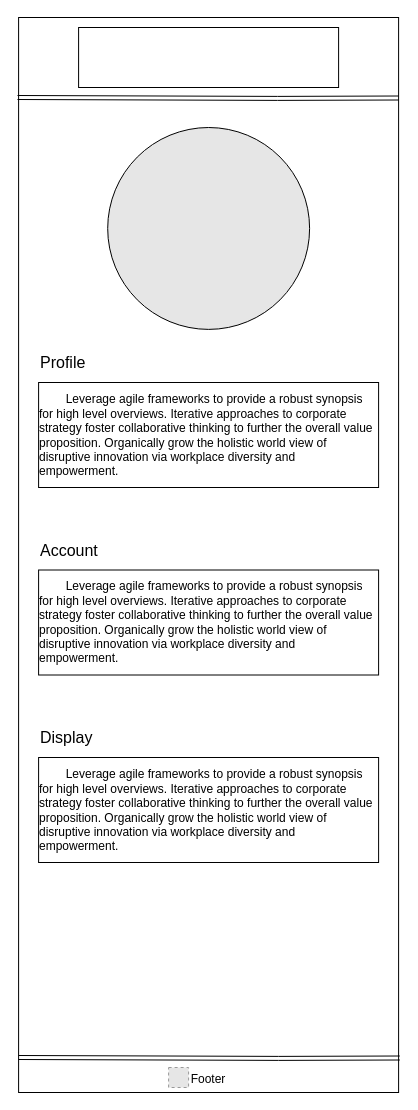
Image size: 418x1110. Some labels were removed from this diagram. Grey dashed boxes stand in for pictures. Each missing label, with the centre of its shape:
"Avatar" belongs at (208,227).
"Logo and Company Name" belongs at (208,57).
